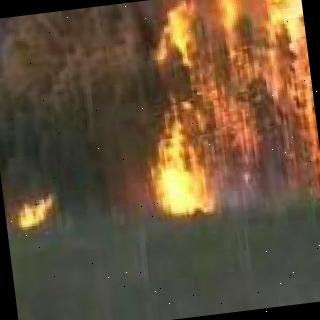fire: (133, 0, 320, 231), (15, 180, 65, 233)
